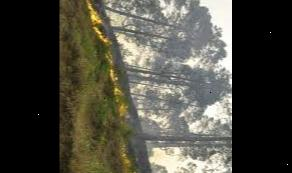fire: (76, 0, 130, 113), (120, 148, 152, 173)
